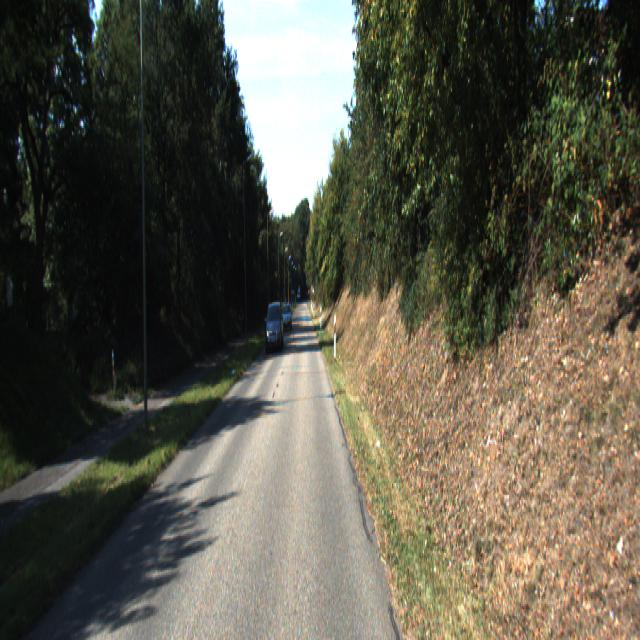Car: (265, 301, 283, 354), (282, 302, 292, 331)
